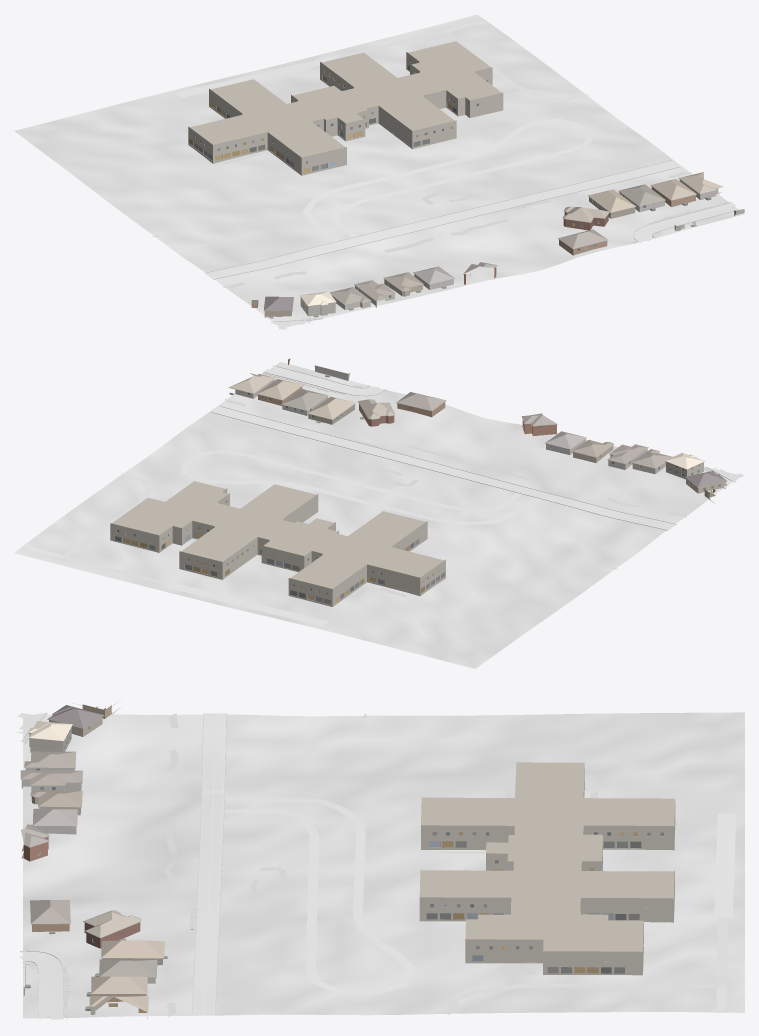
3 views of the same model, one above another, from view 1: azimuth 30°, elevation 25°; view 2: azimuth 150°, elevation 25°; view 3: azimuth 270°, elevation 25° (orthographic). The views are drawn at different scales.
Visible parts, largest first — view 1: ground, roof_flat, wall_com, concrete, roof, asphalt, wall, walk, curb, detail, wall_stone, glass (+1 smaller); view 2: ground, roof_flat, wall_com, concrete, roof, asphalt, wall, curb, walk, wall_stone, detail, glass (+1 smaller); view 3: ground, roof_flat, wall_com, concrete, roof, asphalt, wall, walk, detail, glass, wall_stone, curb (+4 smaller).
Part boxes in pixels (x1,y1,x2,y2): ground: (14, 14, 744, 327); roof_flat: (190, 41, 501, 157); wall_com: (188, 52, 503, 175); concrete: (174, 21, 740, 329); roof: (264, 172, 723, 310); asphalt: (205, 160, 679, 279); wall: (258, 187, 736, 317); walk: (152, 87, 729, 319); curb: (205, 160, 737, 321); detail: (189, 62, 744, 318); wall_stone: (333, 179, 721, 309); glass: (194, 63, 645, 310); ground: (14, 362, 736, 668); roof_flat: (112, 481, 443, 588); wall_com: (110, 488, 445, 606); concrete: (25, 365, 744, 626); roof: (229, 373, 726, 487); asphalt: (212, 406, 675, 529); wall: (258, 358, 726, 503); curb: (211, 366, 732, 530); walk: (225, 373, 711, 597); wall_stone: (229, 365, 665, 474); detail: (114, 366, 727, 604); glass: (114, 393, 720, 604); ground: (23, 712, 744, 1018); roof_flat: (419, 762, 675, 951); wall_com: (419, 768, 675, 975); concrete: (16, 712, 736, 1019); roof: (20, 705, 164, 1012); asphalt: (192, 713, 226, 1014); wall: (21, 704, 162, 1001); walk: (21, 713, 599, 1018); detail: (21, 702, 675, 1012); glass: (36, 726, 663, 995); wall_stone: (21, 768, 155, 1018); curb: (20, 713, 226, 1018).
Bounding box in the file's own units: 260 × 13.94 × 253.
